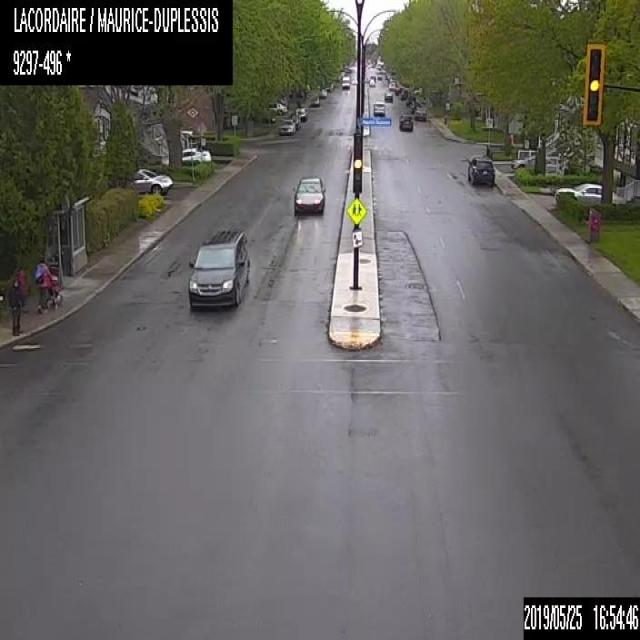pedestrian: (32, 253, 62, 310), (5, 265, 24, 336)
vehicle: (186, 228, 250, 308), (555, 182, 620, 204), (291, 173, 324, 212), (130, 168, 172, 195), (466, 153, 496, 183), (511, 153, 554, 171), (180, 147, 210, 164), (398, 112, 413, 130), (269, 102, 287, 115), (278, 119, 294, 133), (371, 101, 385, 116), (407, 99, 421, 113), (413, 106, 426, 120), (294, 104, 306, 119), (288, 114, 300, 128), (399, 87, 408, 100), (340, 76, 349, 88), (318, 86, 327, 98), (384, 90, 393, 102), (406, 94, 415, 105), (311, 93, 318, 107), (387, 78, 395, 88), (394, 84, 402, 94), (369, 74, 375, 86)
